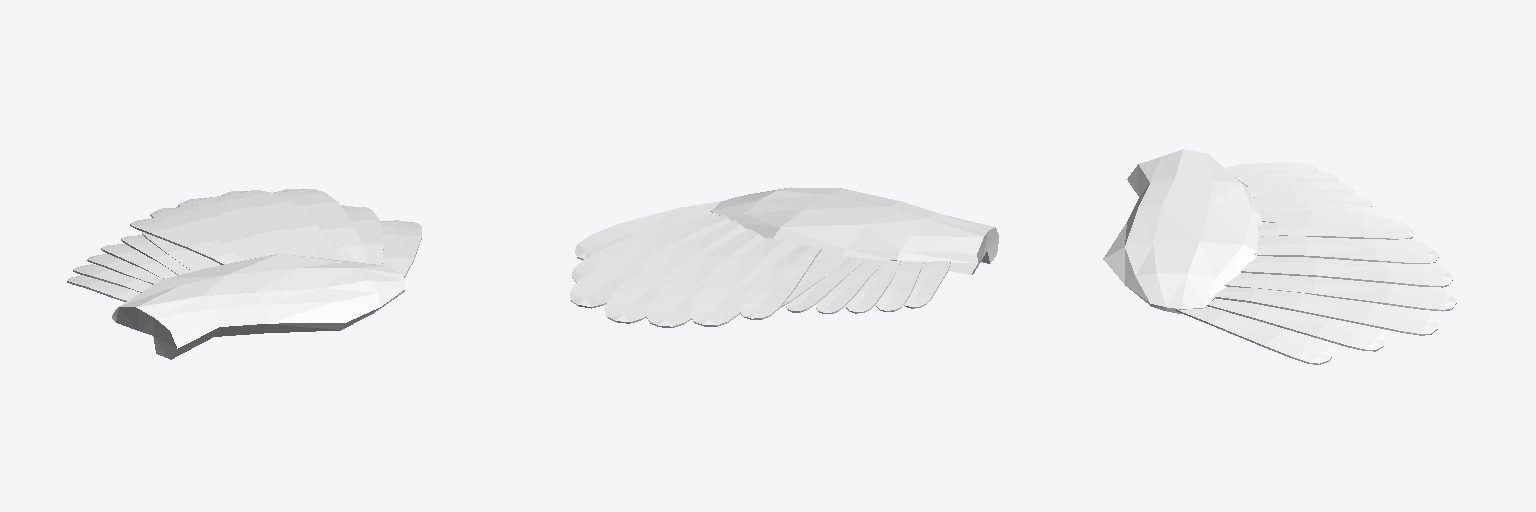
File: CuckoAlaR.obj
3 views of the same model, side by side, from view 1: azimuth 30°, elevation 25°; view 2: azimuth 150°, elevation 25°; view 3: azimuth 270°, elevation 25° (orthographic).
Visible parts, largest first — view 1: Der_Plane.013; view 2: Der_Plane.013; view 3: Der_Plane.013.
Part boxes in pixels (x1,y1,x2,y2): Der_Plane.013: (67, 189, 421, 359); Der_Plane.013: (569, 187, 998, 327); Der_Plane.013: (1103, 149, 1456, 364).
Bounding box in the file's own units: 3.39 × 0.4538 × 2.95.